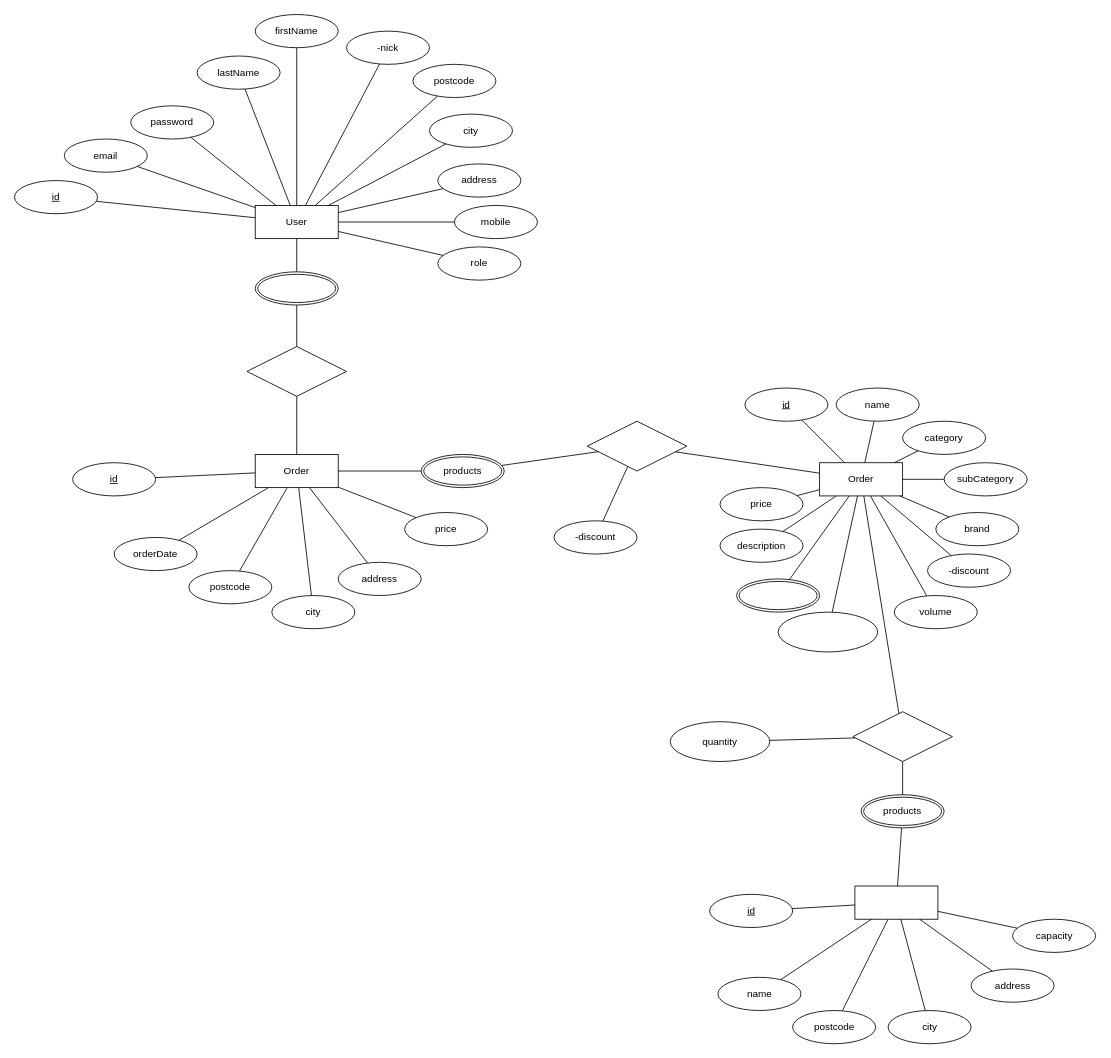
Image size: 1111x1058. Some labels were removed from this diagram. The centre of each missing label's shape, as x and y in pixels:
"alcoholPercentage" belongs at pixel 827 631.
"Bekerül a rendelésbe" belongs at pixel 636 445.
"images" belongs at pixel 778 595.
"orders" belongs at pixel 296 288.
"Rendel" belongs at pixel 296 371.
"Tárolva van" belongs at pixel 902 736.
"Warehouse" belongs at pixel 896 902.
